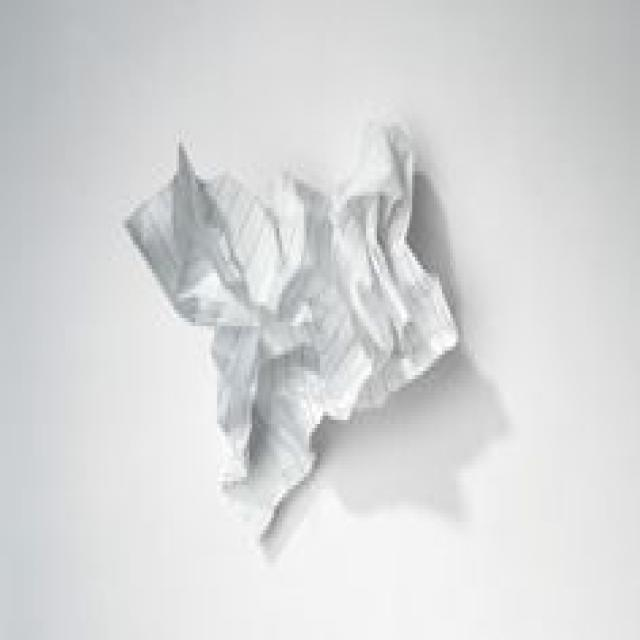Paper: (122, 126, 461, 542)
